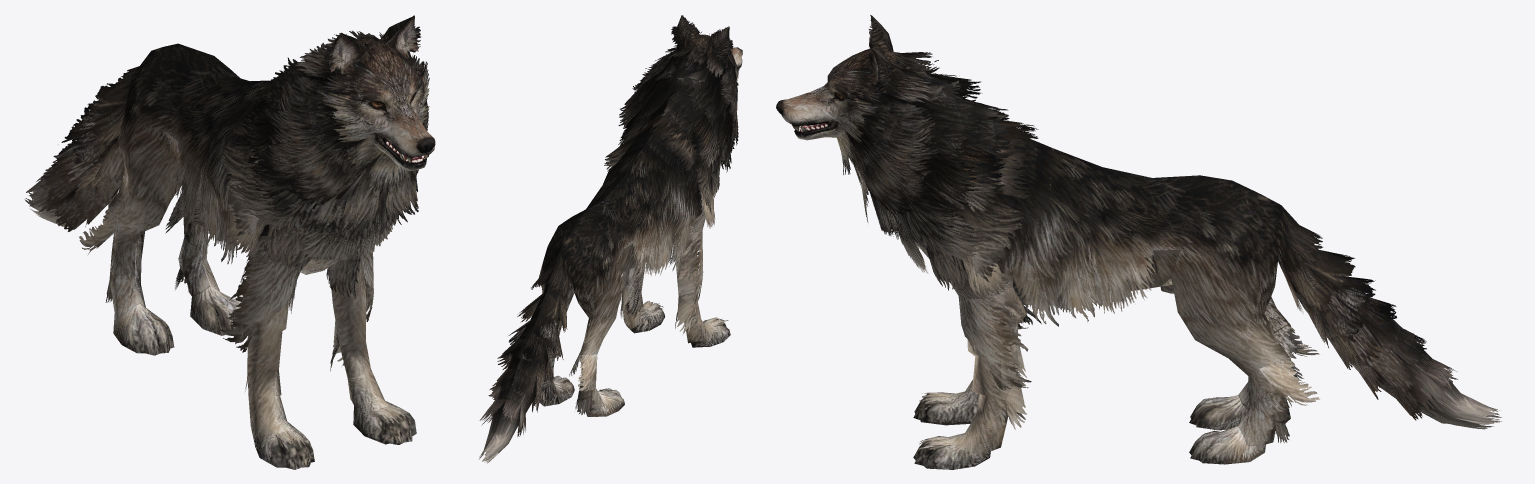
The model's file is lang-1.FBX.
The picture shows the model from 3 angles, left to right: view 1: azimuth 30°, elevation 25°; view 2: azimuth 150°, elevation 25°; view 3: azimuth 270°, elevation 25°; orthographic projection. The views are drawn at different scales.
Visible parts, largest first — view 1: K_Lang001; view 2: K_Lang001; view 3: K_Lang001.
Boxes of the visible parts, bbox=[...] form: K_Lang001: bbox=[24, 15, 435, 469]; K_Lang001: bbox=[479, 15, 742, 463]; K_Lang001: bbox=[776, 15, 1501, 469].
Bounding box in the file's own units: 25.23 × 57.98 × 95.64.
